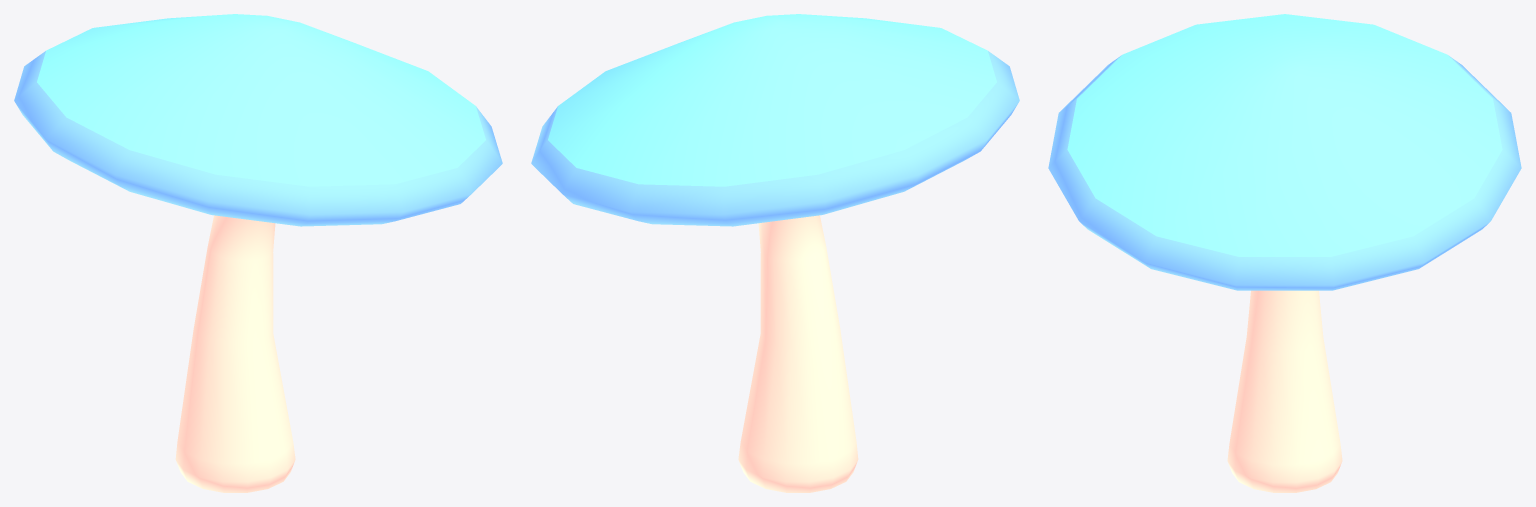
File: cogumelo_M3.fbx
3 views of the same model, side by side, from view 1: azimuth 30°, elevation 25°; view 2: azimuth 150°, elevation 25°; view 3: azimuth 270°, elevation 25° (orthographic). The views are drawn at different scales.
Visible parts, largest first — view 1: cogu_M3; view 2: cogu_M3; view 3: cogu_M3.
Part boxes in pixels (x1,y1,x2,y2): cogu_M3: [14, 14, 502, 492]; cogu_M3: [531, 14, 1019, 492]; cogu_M3: [1048, 14, 1521, 492].
Size of the model in its own units: 503 by 512 by 502.
